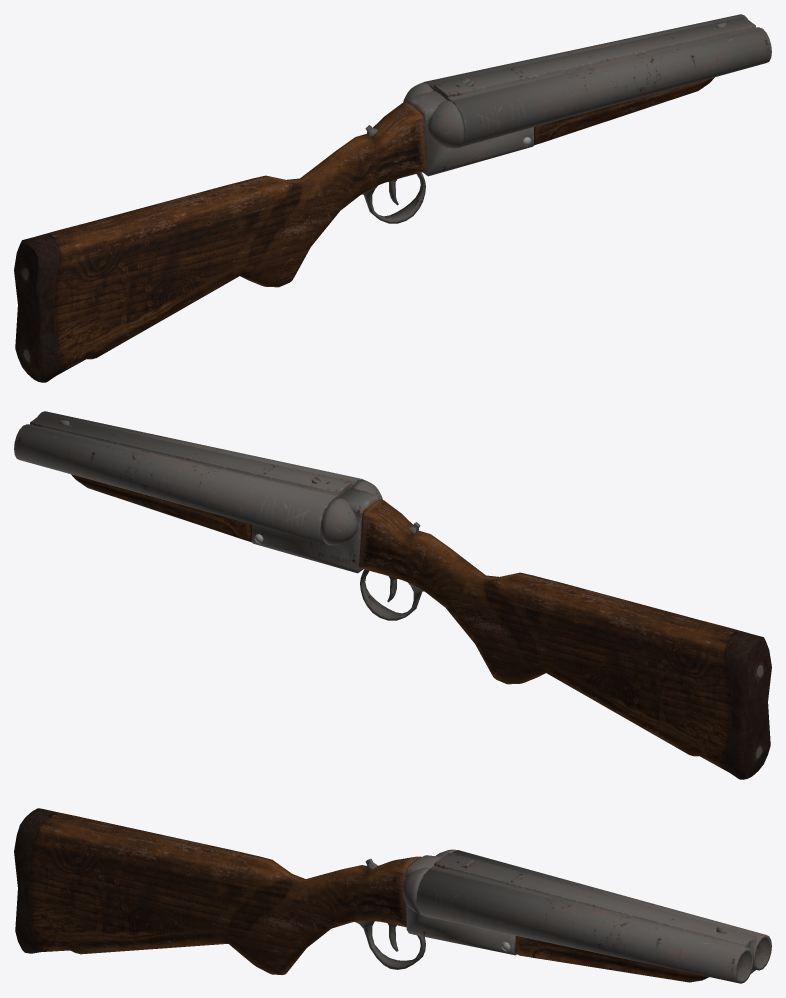
The model's file is gun_shotgun.glb.
3 views of the same model, one above another, from view 1: azimuth 30°, elevation 25°; view 2: azimuth 150°, elevation 25°; view 3: azimuth 330°, elevation 25° (orthographic).
Parts seen in each view (by area): view 1: Plane, Shotgun_concept_01, Shotgun_concept_01.002; view 2: Plane, Shotgun_concept_01, Shotgun_concept_01.002; view 3: Plane, Shotgun_concept_01.
Boxes of the visible parts, <box> form: Plane: <box>20,102,426,382</box>; Shotgun_concept_01: <box>362,14,771,223</box>; Shotgun_concept_01.002: <box>14,243,41,381</box>; Plane: <box>359,499,765,779</box>; Shotgun_concept_01: <box>14,411,423,620</box>; Shotgun_concept_01.002: <box>744,640,771,778</box>; Plane: <box>14,808,421,974</box>; Shotgun_concept_01: <box>355,849,771,983</box>.
Bounding box in the file's own units: 2 × 0.5099 × 0.2335.
Materials: 1 (1 with a texture image).
